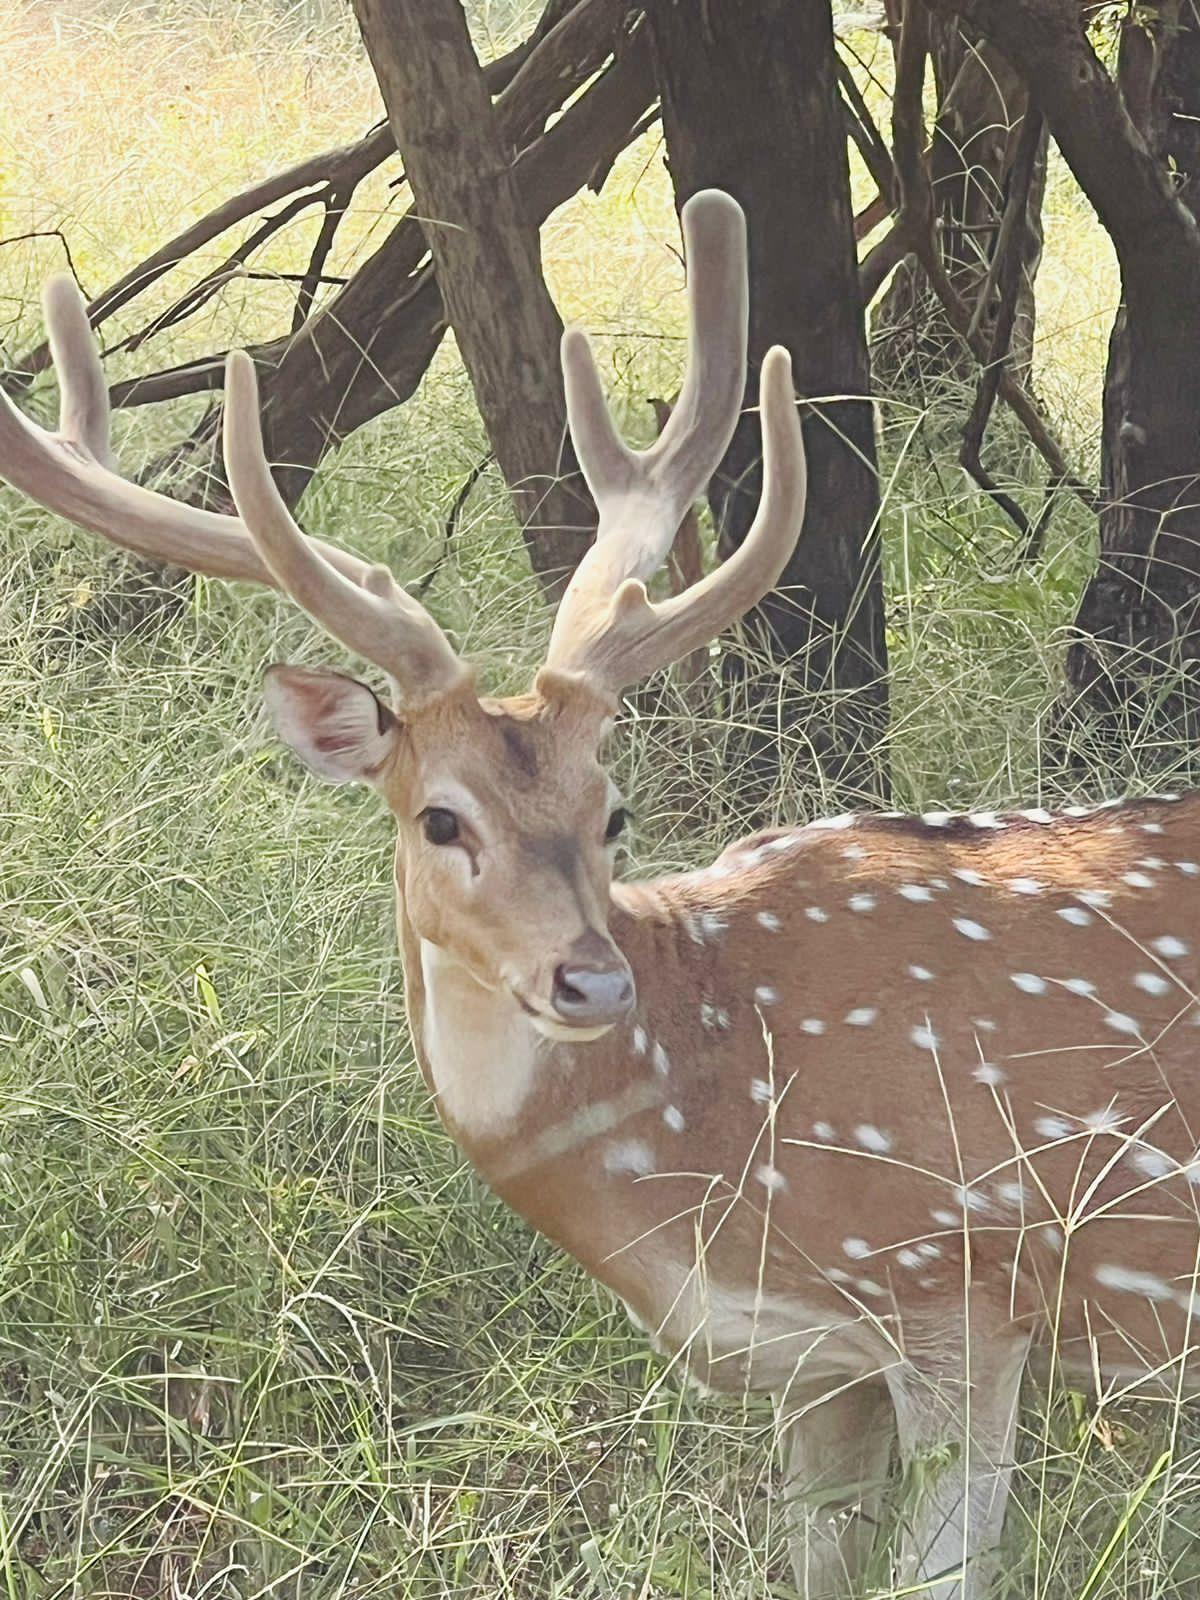Deer: (0, 190, 1199, 1599)
